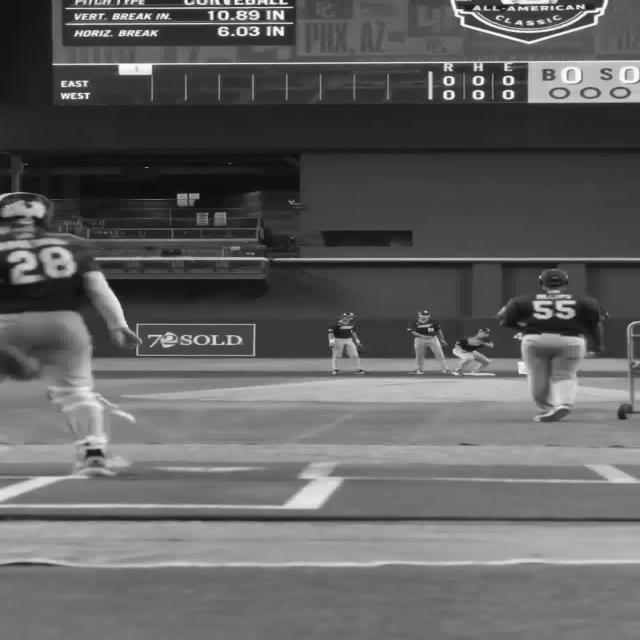base: (462, 372, 498, 376)
shoe: (93, 392, 135, 423), (78, 450, 114, 476), (534, 406, 570, 422), (532, 409, 552, 422), (354, 369, 370, 375), (451, 370, 463, 376), (408, 370, 424, 374), (440, 369, 450, 373), (332, 369, 339, 374)
